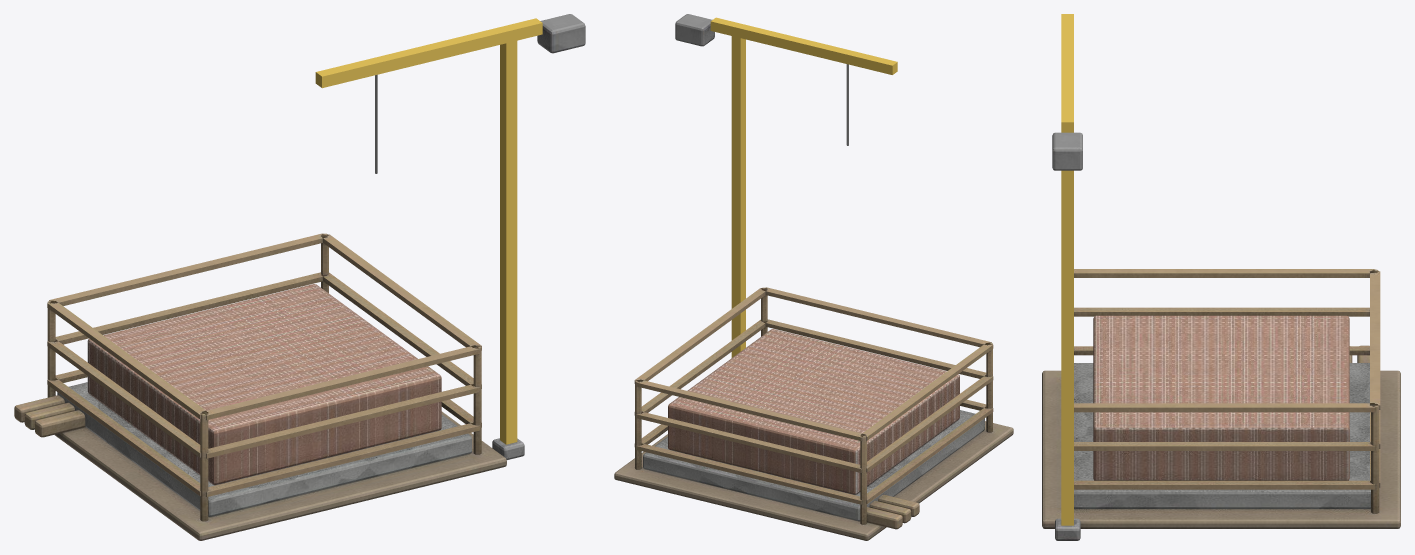
Rendered from baustelle1.glb.
The picture shows the model from 3 angles, left to right: view 1: azimuth 30°, elevation 25°; view 2: azimuth 150°, elevation 25°; view 3: azimuth 270°, elevation 25°; orthographic projection. The views are drawn at different scales.
Parts seen in each view (by area): view 1: baustelle1, baustelle1_details; view 2: baustelle1, baustelle1_details; view 3: baustelle1, baustelle1_details.
Part boxes in pixels (x1,y1,x2,y2): baustelle1: (14, 14, 585, 540); baustelle1_details: (315, 18, 542, 444); baustelle1: (614, 14, 1013, 540); baustelle1_details: (710, 17, 897, 357); baustelle1: (1042, 132, 1400, 540); baustelle1_details: (1061, 14, 1073, 525).
Size of the model in its own units: 0.94 by 0.925 by 0.7.
3 materials, 1 textured.
